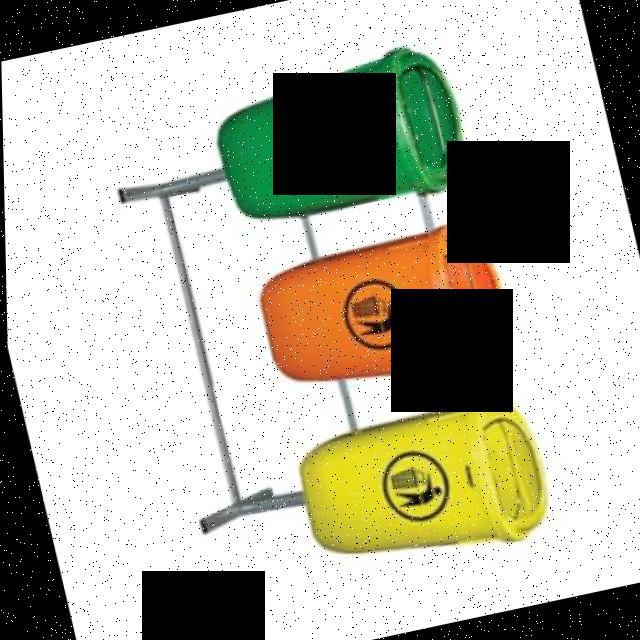bin: (271, 370, 570, 597), (231, 209, 531, 429), (188, 31, 486, 245)
